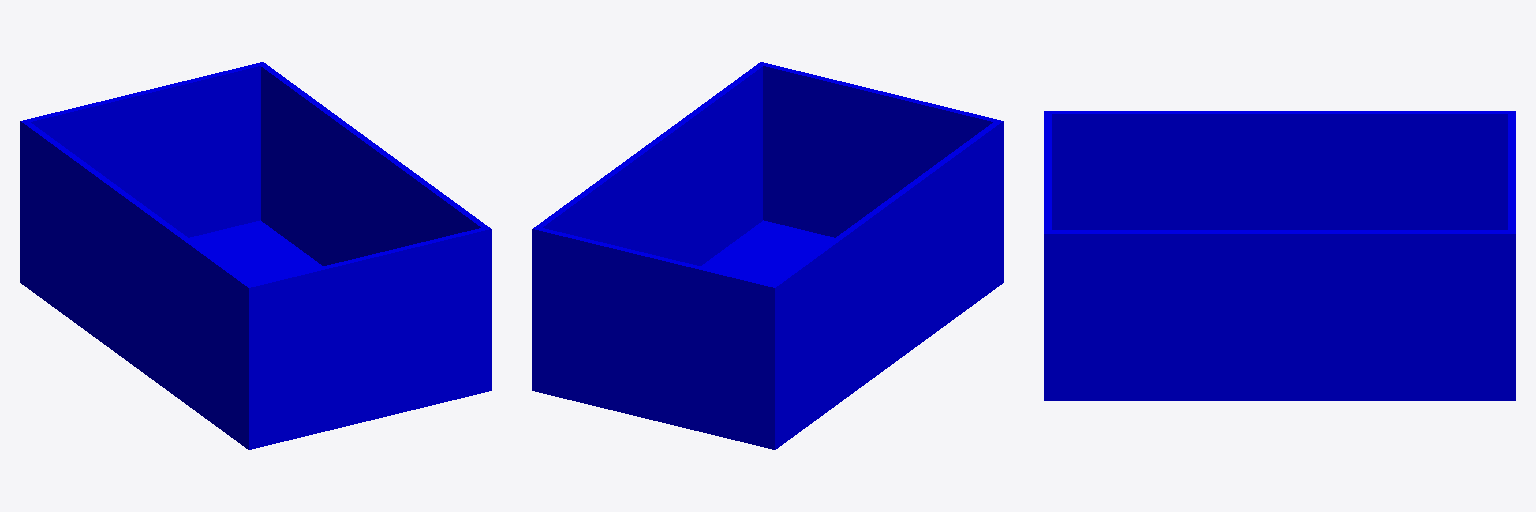
The robot description file, URDF, robot "bin":
<?xml version="1.0"?>

<robot name="bin">

  <link name="bin_down">
    <contact>
      <restitution value="1.0e-8" />
      <!-- <lateral_friction value="1.0e+8"/>
      <rolling_friction value="1.0e+8"/>
      <spinning_friction value="1.0e+8"/> -->
      <contact_cfm value="0.00001"/>
      <contact_erp value="0.2"/>
    </contact>   
    
    <inertial>
      <origin xyz="0 0 0" />
      <mass value="0.05" />
      <inertia  ixx="1.0" ixy="0.0"  ixz="0.0"  iyy="1.0"  iyz="0.0"  izz="1.0" />
    </inertial>

    <visual>
      <origin xyz="0 0 0"/>
      <geometry>
        <box size="0.116 0.186 0.003" />
      </geometry>
      <material name="blue">
	      <color rgba=".0 .0 1.0 1.0"/>
      </material>
    </visual>

    <collision>
      <origin xyz="0 0 0"/>
      <geometry>
        <box size="0.116 0.186 0.003" />
      </geometry>
    </collision>
  </link>

  <joint name="0" type="fixed">
    <parent link="bin_down"/>
    <child link="bin_left"/>
    <origin rpy="0.0 0.0 0.0" xyz="-0.0565 0. 0.035" />
  </joint>

  <link name="bin_left">
    <contact>
      <restitution value="1.0e-8" />
      <!-- <lateral_friction value="1.0e+8"/>
      <rolling_friction value="1.0e+8"/>
      <spinning_friction value="1.0e+8"/> -->
      <contact_cfm value="0.00001"/>
      <contact_erp value="0.2"/>
    </contact>   
    
    <inertial>
      <origin xyz="0 0 0" />
      <mass value="0.05" />
      <inertia  ixx="1.0" ixy="0.0"  ixz="0.0"  iyy="1.0"  iyz="0.0"  izz="1.0" />
    </inertial>
    
    <visual>
      <origin xyz="0 0 0"/>
      <geometry>
        <box size="0.003 0.186 0.074"/>
      </geometry>
      <material name="blue">
	      <color rgba=".0 .0 1.0 1.0"/>
      </material>
    </visual>
    
    <collision>
      <origin xyz="0 0 0"/>
      <geometry>
        <box size="0.003 0.186 0.074"/>
      </geometry>
    </collision>
  
  </link>

  <joint name="1" type="fixed">
    <parent link="bin_left"/>
    <child link="bin_back"/>
    <origin rpy="0.0 0.0 0.0" xyz="0.0565 0.093 0" />
  </joint>

  <link name="bin_back">
    <contact>
      <restitution value="1.0e-8" />
      <!-- <lateral_friction value="1.0e+8"/>
      <rolling_friction value="1.0e+8"/>
      <spinning_friction value="1.0e+8"/> -->
      <contact_cfm value="0.00001"/>
      <contact_erp value="0.2"/>
    </contact>   
    
    <inertial>
      <origin xyz="0 0 0" />
      <mass value="0.05" />
      <inertia  ixx="1.0" ixy="0.0"  ixz="0.0"  iyy="1.0"  iyz="0.0"  izz="1.0" />
    </inertial>
    
    <visual>
      <origin xyz="0 0 0"/>
      <geometry>
        <box size="0.116 0.003 0.074"/>
      </geometry>
      <material name="blue">
	      <color rgba=".0 .0 1.0 1.0"/>
      </material>
    </visual>
    
    <collision>
      <origin xyz="0 0 0"/>
      <geometry>
        <box size="0.116 0.003 0.074"/>
      </geometry>
    </collision>
  </link>


  <joint name="2" type="fixed">
    <parent link="bin_back"/>
    <child link="bin_right"/>
    <origin rpy="0.0 0.0 0.0" xyz="0.0565 -0.093 0" />
  </joint>


  <link name="bin_right">
    <contact>
      <restitution value="1.0e-8" />
      <!-- <lateral_friction value="1.0e+8"/>
      <rolling_friction value="1.0e+8"/>
      <spinning_friction value="1.0e+8"/> -->
      <contact_cfm value="0.00001"/>
      <contact_erp value="0.2"/>
    </contact>   
    
    <inertial>
      <origin xyz="0 0 0" />
      <mass value="0.05" />
      <inertia  ixx="1.0" ixy="0.0"  ixz="0.0"  iyy="1.0"  iyz="0.0"  izz="1.0" />
    </inertial>
    
    <visual>
      <origin xyz="0 0 0"/>
      <geometry>
        <box size="0.003 0.186 0.074"/>
      </geometry>
      <material name="blue">
	      <color rgba=".0 .0 1.0 1.0"/>
      </material>
    </visual>
    
    <collision>
      <origin xyz="0 0 0"/>
      <geometry>
        <box size="0.003 0.186 0.074"/>
      </geometry>
    </collision>
  </link>

  <joint name="3" type="fixed">
    <parent link="bin_right"/>
    <child link="bin_front"/>
    <origin rpy="0.0 0.0 0.0" xyz="-0.0565 -0.093 0" />
  </joint>

  <link name="bin_front">
    <contact>
      <restitution value="1.0e-8" />
      <!-- <lateral_friction value="1.0e+8"/>
      <rolling_friction value="1.0e+8"/>
      <spinning_friction value="1.0e+8"/> -->
      <contact_cfm value="0.00001"/>
      <contact_erp value="0.2"/>
    </contact>   
    
    <inertial>
      <origin xyz="0 0 0" />
      <mass value="0.05" />
      <inertia  ixx="1.0" ixy="0.0"  ixz="0.0"  iyy="1.0"  iyz="0.0"  izz="1.0" />
    </inertial>
    
    <visual>
      <origin xyz="0 0 0"/>
      <geometry>
        <box size="0.116 0.003 0.074"/>
      </geometry>
      <material name="blue">
	      <color rgba=".0 .0 1.0 1.0"/>
      </material>
    </visual>
    
    <collision>
      <origin xyz="0 0 0"/>
      <geometry>
       <box size="0.116 0.003 0.074"/>
      </geometry>
    </collision>
  </link>

</robot>

--- Facts derived from the render (not from the file) ---
3 views of the same robot in one strip: view 1: azimuth 30°, elevation 25°; view 2: azimuth 150°, elevation 25°; view 3: azimuth 270°, elevation 25° (orthographic).
Robot: bin — 5 links, 4 joints (4 fixed); root link bin_down; default pose: every joint at zero.
Visible links, largest first — view 1: bin_front, bin_left, bin_back, bin_right, bin_down; view 2: bin_back, bin_left, bin_front, bin_right, bin_down; view 3: bin_right, bin_left, bin_back, bin_down, bin_front.
Boxes of the visible links, x1,y1,x2,y2 form: bin_front: [245, 227, 491, 449]; bin_left: [22, 121, 251, 448]; bin_back: [20, 62, 265, 283]; bin_right: [261, 63, 489, 265]; bin_down: [22, 220, 322, 446]; bin_back: [532, 228, 778, 449]; bin_left: [772, 121, 1001, 447]; bin_front: [760, 62, 1003, 283]; bin_right: [534, 63, 763, 265]; bin_down: [701, 220, 1001, 446]; bin_right: [1048, 230, 1511, 400]; bin_left: [1048, 111, 1511, 229]; bin_back: [1508, 111, 1515, 400]; bin_down: [1048, 393, 1511, 399]; bin_front: [1044, 111, 1051, 400].
Size in the robot's own frame: 0.116 by 0.189 by 0.074 metres.
Geometry: primitives only (box / cylinder / sphere), no mesh files.